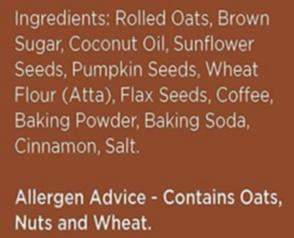ingredients: (9, 6, 294, 238)
